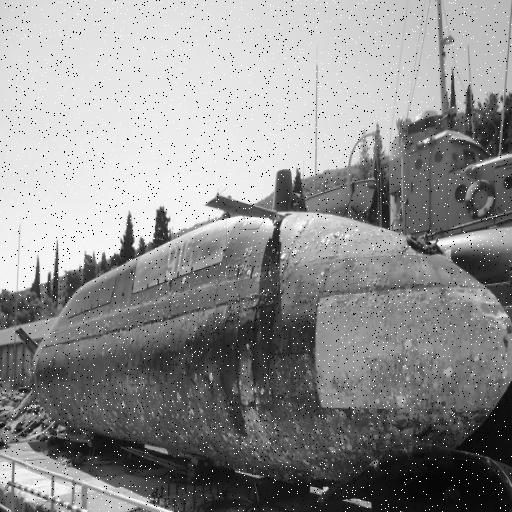submarine: (1, 231, 512, 503)
